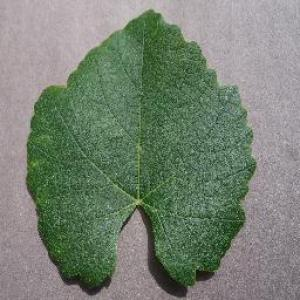Folha: (24, 7, 256, 291)
